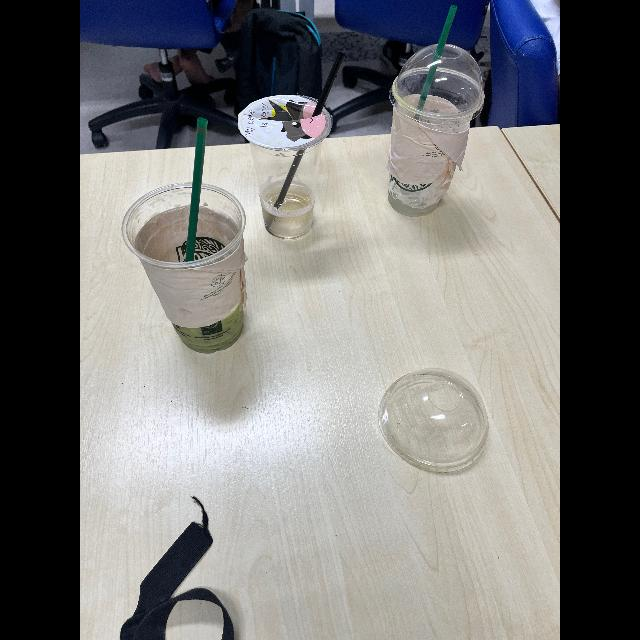plastic_cup: (122, 178, 248, 356), (379, 65, 485, 223), (240, 81, 334, 241)
plastic_cup_lid: (379, 360, 493, 480), (387, 44, 493, 126)
straw: (268, 38, 354, 222), (175, 103, 222, 293), (408, 4, 460, 128)
